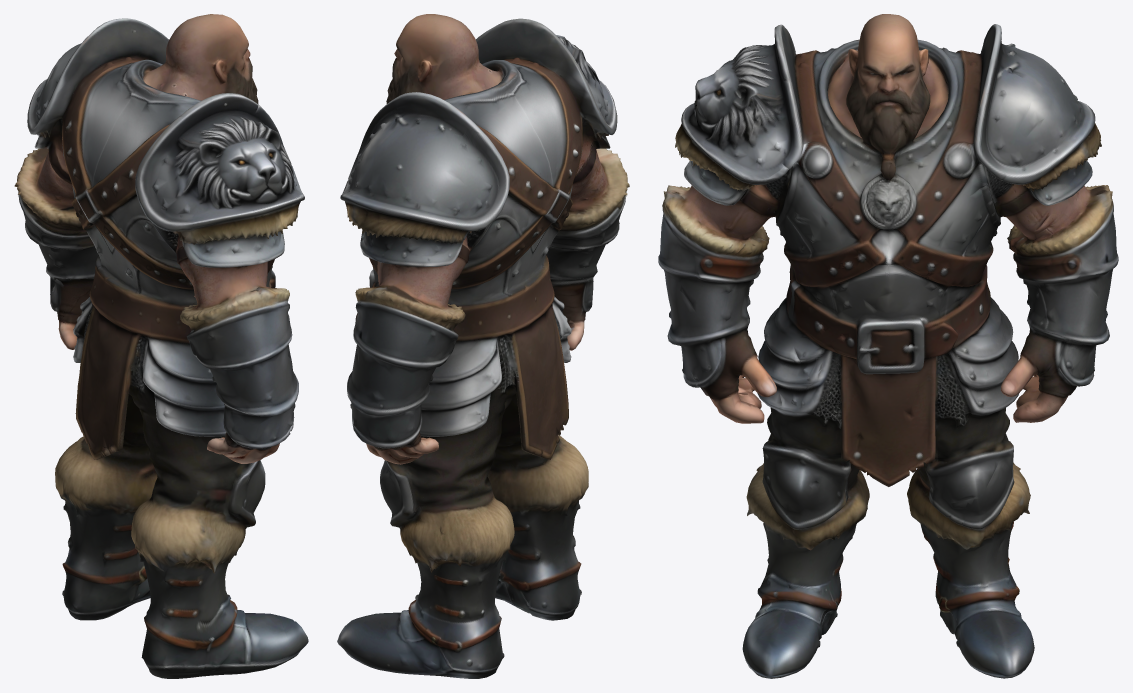
File: Vex_mesh_only.fbx
3 views of the same model, side by side, from view 1: azimuth 30°, elevation 25°; view 2: azimuth 150°, elevation 25°; view 3: azimuth 270°, elevation 25° (orthographic). The views are drawn at different scales.
Parts seen in each view (by area): view 1: tripo_mesh_a3f84655_c1d4_4471_86e4_b78fec5006f9; view 2: tripo_mesh_a3f84655_c1d4_4471_86e4_b78fec5006f9; view 3: tripo_mesh_a3f84655_c1d4_4471_86e4_b78fec5006f9.
Part boxes in pixels (box(x1,y1,x2,y2)): tripo_mesh_a3f84655_c1d4_4471_86e4_b78fec5006f9: box(14, 14, 308, 678); tripo_mesh_a3f84655_c1d4_4471_86e4_b78fec5006f9: box(337, 14, 629, 678); tripo_mesh_a3f84655_c1d4_4471_86e4_b78fec5006f9: box(658, 14, 1118, 678).
Bounding box in the file's own units: 0.3256 × 1 × 0.6474.
1 material, 1 textured.
